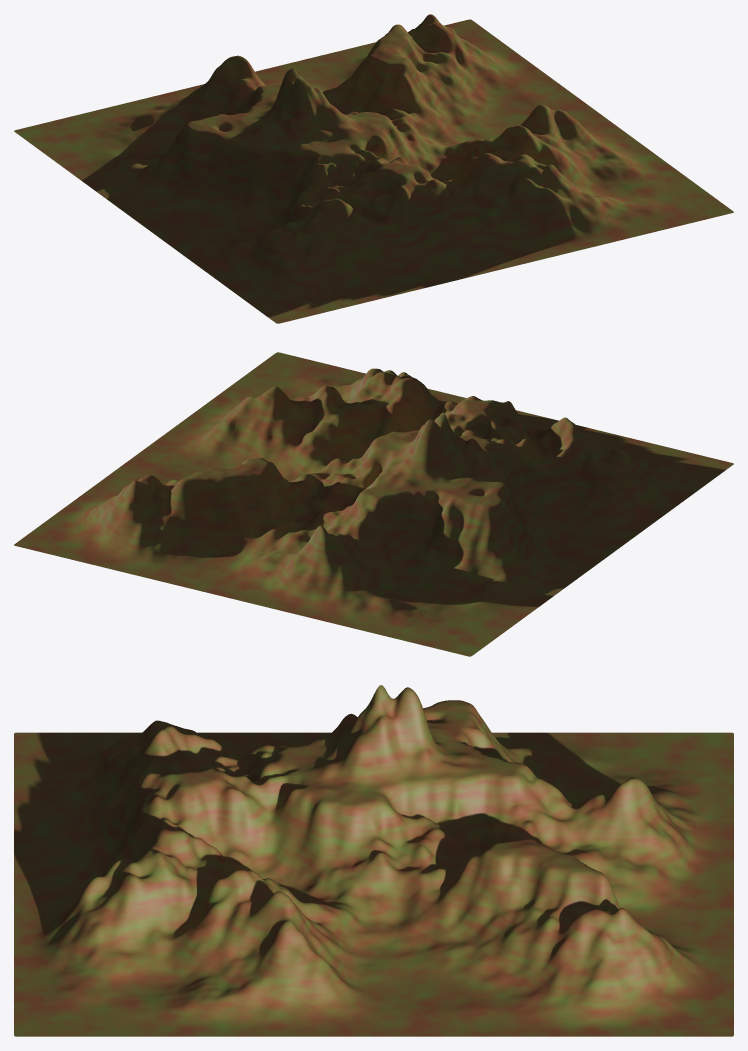
Rendered from baked2.glb.
The picture shows the model from 3 angles, top to bottom: view 1: azimuth 30°, elevation 25°; view 2: azimuth 150°, elevation 25°; view 3: azimuth 270°, elevation 25°; orthographic projection. The views are drawn at different scales.
Visible parts, largest first — view 1: Landscape.002; view 2: Landscape.002; view 3: Landscape.002.
Part boxes in pixels (box(x1,y1,x2,y2)): Landscape.002: box(14, 14, 733, 323); Landscape.002: box(14, 352, 733, 656); Landscape.002: box(14, 685, 733, 1036).
Size of the model in its own units: 2 by 0.4645 by 2.
Materials: 1 (1 with a texture image).
